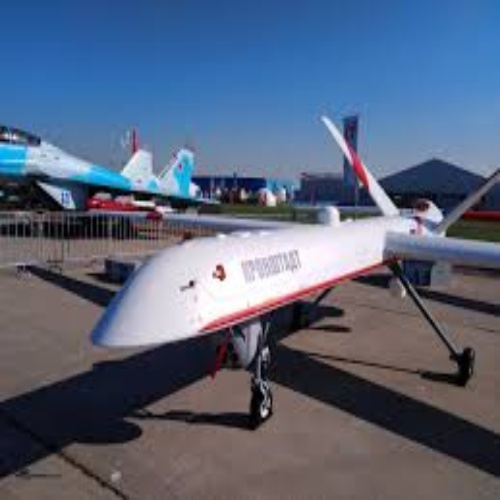uav: (89, 149, 497, 431)
